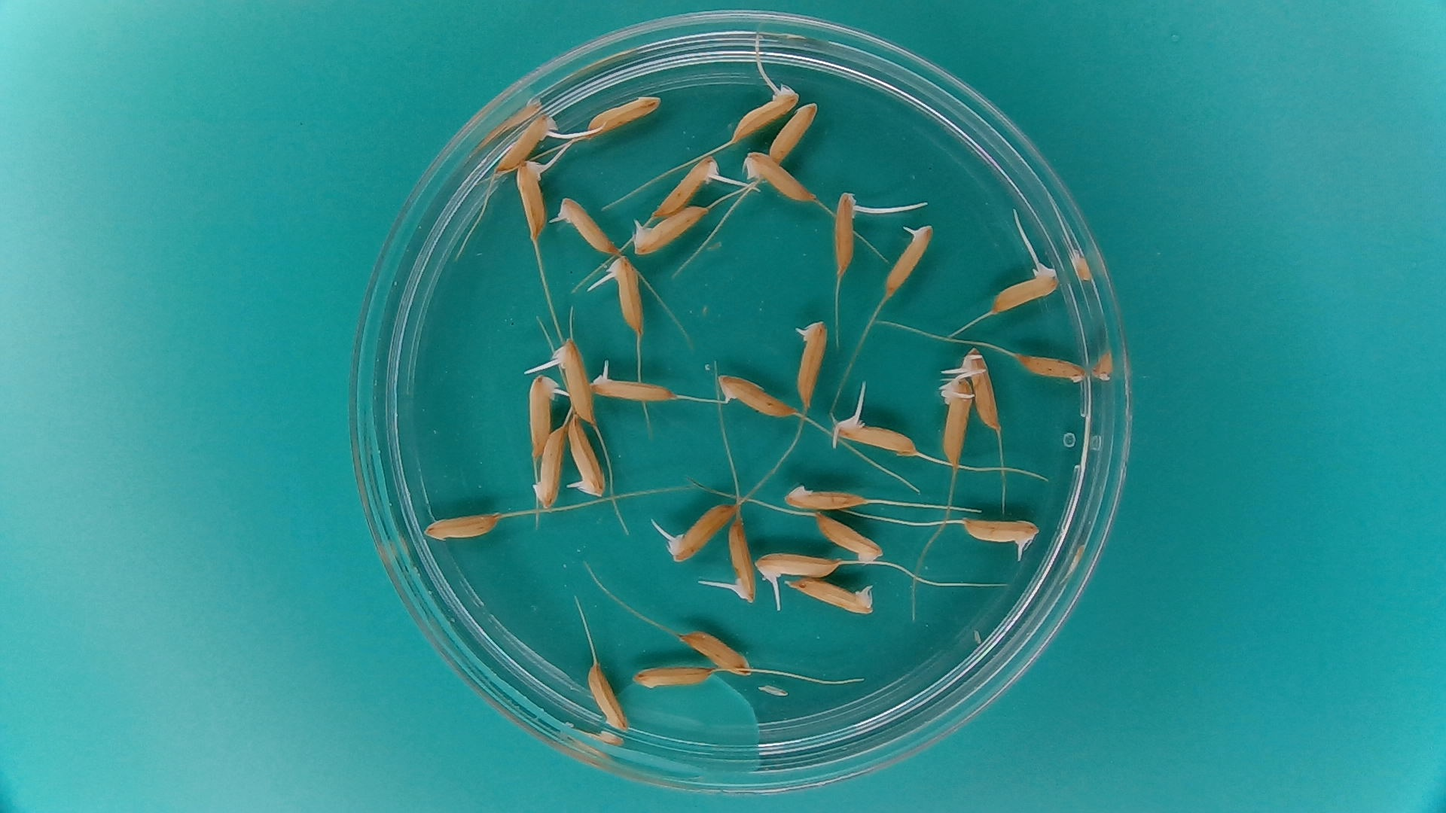no: (743, 149, 818, 205), (714, 371, 798, 419), (813, 513, 885, 565), (674, 629, 753, 674), (584, 91, 663, 136), (530, 419, 569, 510), (586, 660, 632, 732), (767, 99, 818, 162), (781, 478, 866, 513), (629, 660, 714, 691), (421, 510, 502, 542), (1017, 352, 1088, 385)
yes: (657, 499, 738, 565), (651, 153, 719, 220), (882, 218, 938, 297), (548, 335, 596, 426), (628, 202, 710, 255), (550, 193, 618, 254), (831, 410, 919, 457), (729, 85, 796, 145), (752, 547, 846, 588), (493, 113, 555, 175), (786, 575, 876, 617), (524, 368, 565, 460), (599, 252, 647, 330), (565, 415, 609, 500), (960, 346, 1002, 434), (792, 316, 830, 406), (938, 379, 975, 469), (991, 266, 1059, 312), (513, 156, 547, 238), (725, 519, 757, 602), (589, 370, 669, 403), (966, 516, 1041, 546), (833, 188, 859, 273)
